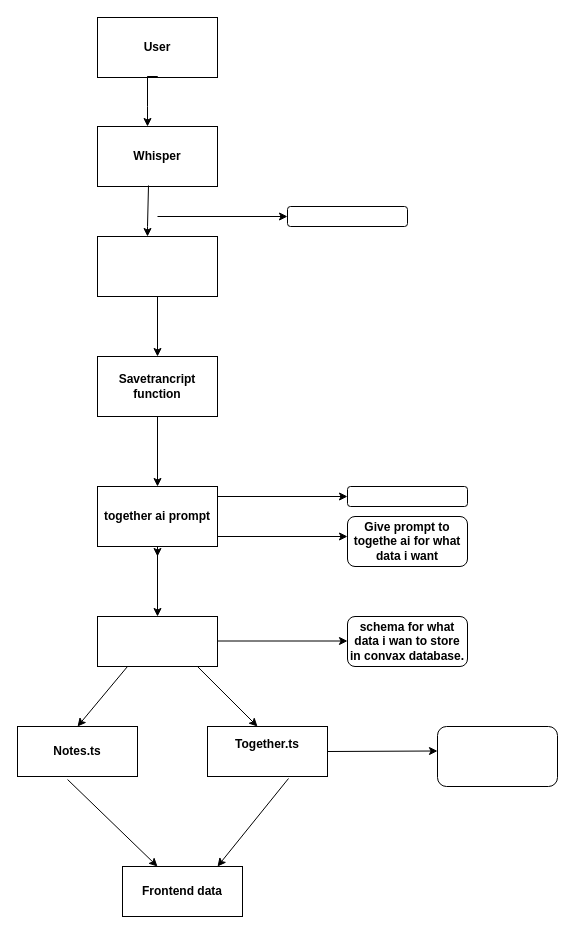
The diagram is 575 pixels wide and 934 high, and some of its shapes have lost their labels. Here are the shapes that lost their labels. From the top down, the box of each, then its label:
(286, 206, 408, 226): Replicate_Api_Key
(96, 236, 218, 296): Replicate
(346, 486, 468, 506): Together_API_Key
(96, 616, 218, 666): Schema.ts
(436, 726, 558, 786): inside writen saveSummary and get indvisual data from convax
